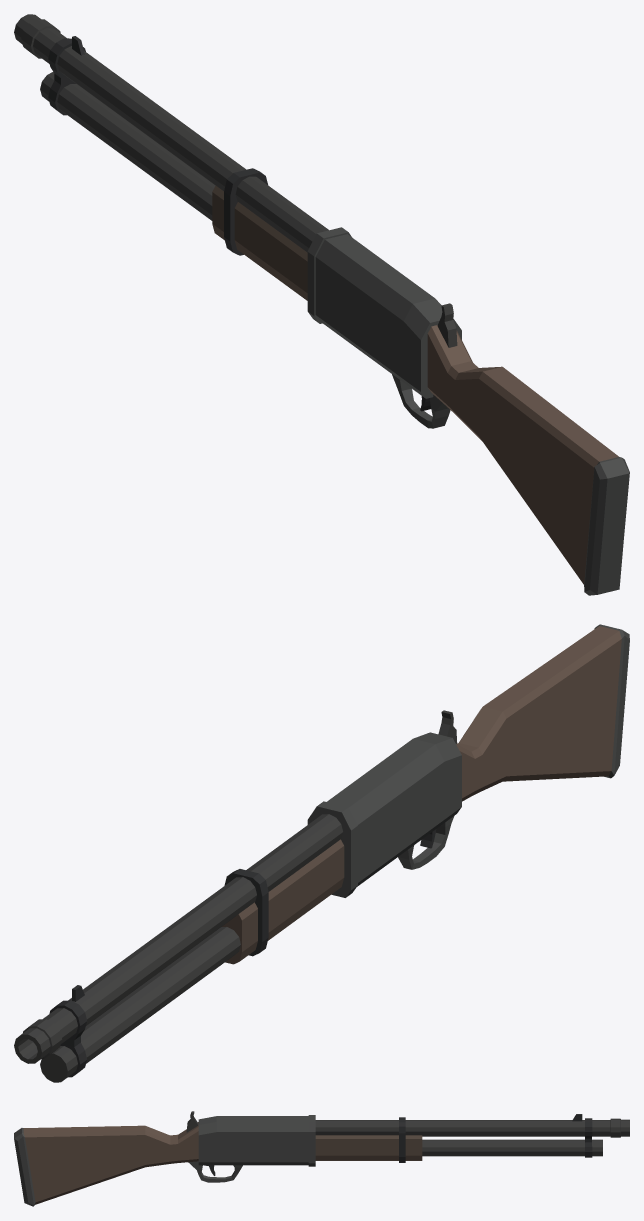
The model's file is shotgun_2.glb.
3 views of the same model, one above another, from view 1: azimuth 30°, elevation 25°; view 2: azimuth 150°, elevation 25°; view 3: azimuth 270°, elevation 25° (orthographic). The views are drawn at different scales.
Parts seen in each view (by area): view 1: Shotgun_2; view 2: Shotgun_2; view 3: Shotgun_2.
Part boxes in pixels (box(x1,y1,x2,y2)): Shotgun_2: box(14, 14, 629, 595); Shotgun_2: box(14, 624, 629, 1082); Shotgun_2: box(14, 1111, 629, 1206).
Bounding box in the file's own units: 0.0398 × 0.1535 × 0.9351.
